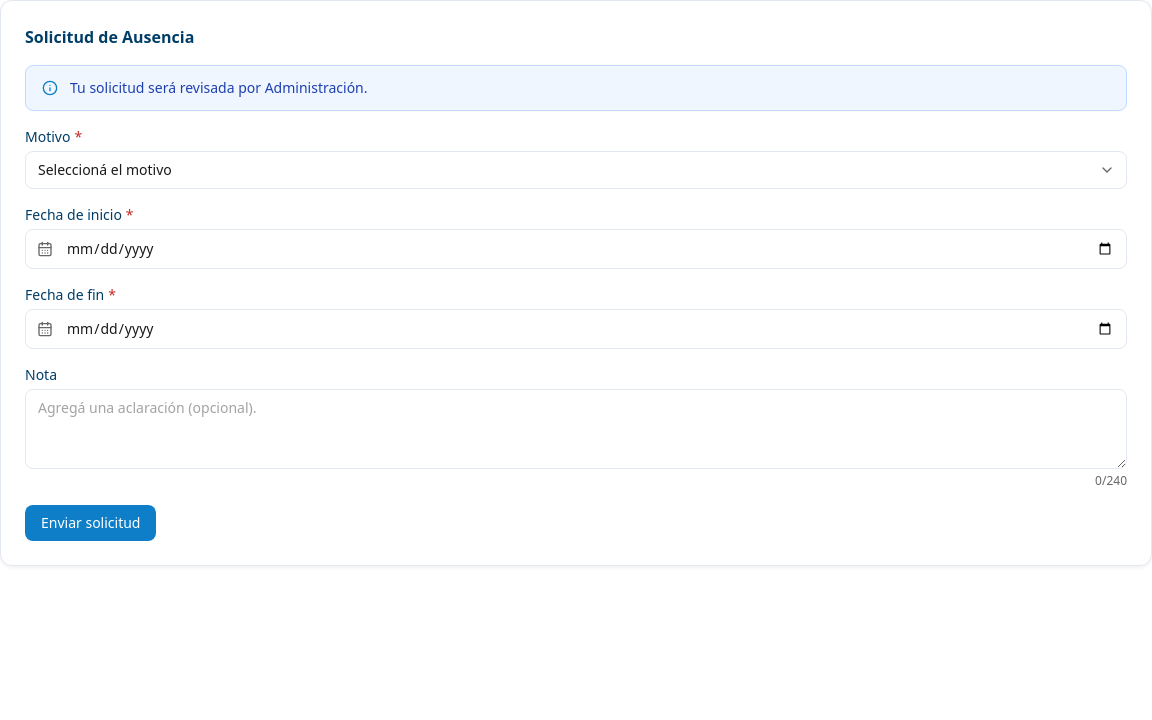
Test: SolicitudAusenciaForm: motivo_otros_texto condicional › con motivo 'otros', muestra el campo de detalle del motivo
Select "Otros" in the dropdown labelled "Motivo": (576, 170) [25,151,1127,189]
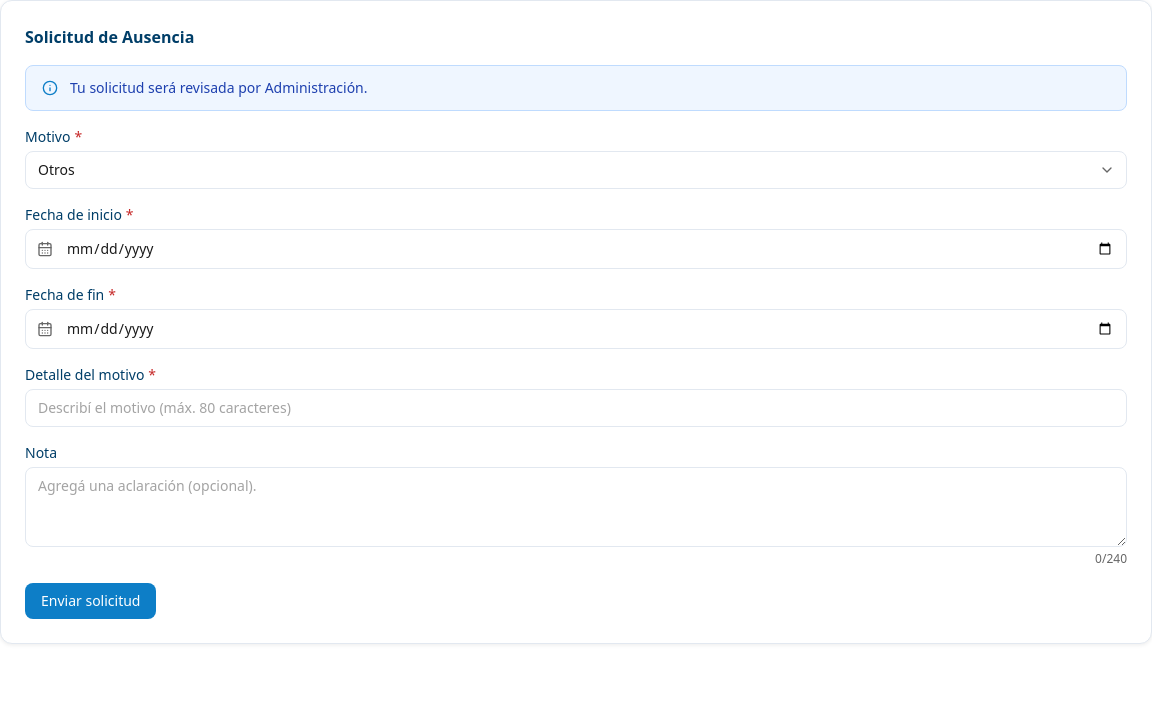
Expected: the field labelled "Detalle del motivo" is shown, [25,389,1127,427]
